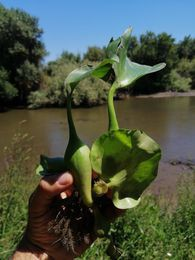water_hyacinth: (55, 21, 162, 214)
